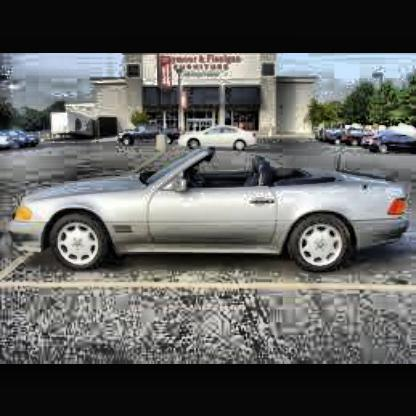Mercedes-Benz 300-Class Convertible 1993: (11, 142, 414, 283)
